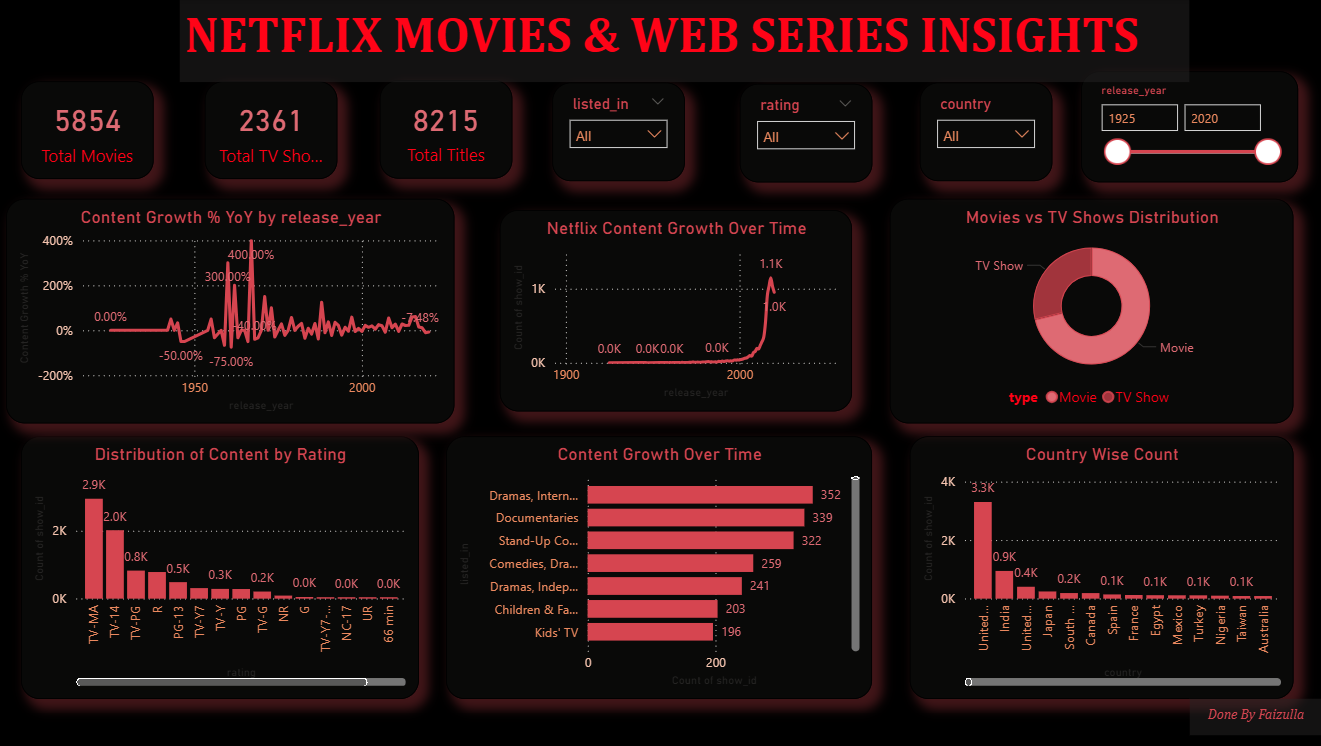

What the dashboard file says about the page in this screenshot:
{"tool":"powerbi","page":{"name":"Page 1","canvas":[1280,720],"ordinal":0},"visuals":[{"type":"card","fields":{"Values":["netflix_powerbi.Total TV Shows"]},"box":[185.8,78.4,127.9,94.1],"z":0},{"type":"donutChart","fields":{"Category":["netflix_powerbi.type"],"Y":["CountNonNull(netflix_powerbi.show_id)"]},"box":[944.1,192.1,323.8,252.5],"z":1000},{"type":"lineChart","title":"Country Wise Release Year","fields":{"Category":["netflix_powerbi.release_year"],"Y":["CountNonNull(netflix_powerbi.show_id)"]},"box":[511.8,223.7,340.3,193.5],"z":2000},{"type":"columnChart","title":"Country Wise  Count","fields":{"Category":["netflix_powerbi.country"],"Y":["CountNonNull(netflix_powerbi.show_id)"]},"box":[886.7,454.8,381.2,253.4],"z":3000},{"type":"clusteredBarChart","title":"Content Growth Over Time","fields":{"Category":["netflix_powerbi.listed_in"],"Y":["CountNonNull(netflix_powerbi.show_id)"]},"box":[465.2,455.6,428.1,252.5],"z":4000},{"type":"columnChart","title":"Count of Titles by Rating","fields":{"Category":["netflix_powerbi.rating"],"Y":["Sum(netflix_powerbi.release_year)"]},"box":[0,454.8,442.8,253.4],"z":5000},{"type":"slicer","fields":{"Values":["netflix_powerbi.country"]},"box":[902.4,80.8,127.9,95.3],"z":6000},{"type":"slicer","fields":{"Values":["netflix_powerbi.rating"]},"box":[725.1,79.6,127.9,95.3],"z":7000},{"type":"slicer","fields":{"Values":["netflix_powerbi.release_year"]},"box":[1058,68.6,209.9,107],"z":8000},{"type":"slicer","fields":{"Values":["netflix_powerbi.listed_in"]},"box":[551.3,79.6,127.9,95.3],"z":9000},{"type":"card","fields":{"Values":["netflix_powerbi.Total Movies"]},"box":[9.7,79.6,127.9,94.1],"z":10000},{"type":"card","fields":{"Values":["netflix_powerbi.Total Titles"]},"box":[358.3,78.4,127.9,95.3],"z":11000},{"type":"textbox","box":[177,0,974.3,79.6],"z":12000},{"type":"lineChart","fields":{"Y":["netflix_powerbi.Content Growth % YoY"],"Category":["netflix_powerbi.release_year"]},"box":[9.6,192.1,433.6,225],"z":12001}]}

Visuals, with their boxes in screenshot pixels (x1, y1, x2, y2), scaled from the page's 1280x720 canvas onto the 1321x746 screenshot:
card - netflix_powerbi.Total TV Shows: region(192, 81, 324, 179)
donutChart - netflix_powerbi.type x CountNonNull(netflix_powerbi.show_id): region(974, 199, 1309, 461)
"Country Wise Release Year" lineChart: region(528, 232, 879, 432)
"Country Wise  Count" columnChart: region(915, 471, 1309, 734)
"Content Growth Over Time" clusteredBarChart: region(480, 472, 922, 734)
"Count of Titles by Rating" columnChart: region(0, 471, 457, 734)
slicer - netflix_powerbi.country: region(931, 84, 1063, 182)
slicer - netflix_powerbi.rating: region(748, 82, 880, 181)
slicer - netflix_powerbi.release_year: region(1092, 71, 1309, 182)
slicer - netflix_powerbi.listed_in: region(569, 82, 701, 181)
card - netflix_powerbi.Total Movies: region(10, 82, 142, 180)
card - netflix_powerbi.Total Titles: region(370, 81, 502, 180)
textbox: region(183, 0, 1188, 82)
lineChart - netflix_powerbi.Content Growth % YoY x netflix_powerbi.release_year: region(10, 199, 457, 432)
